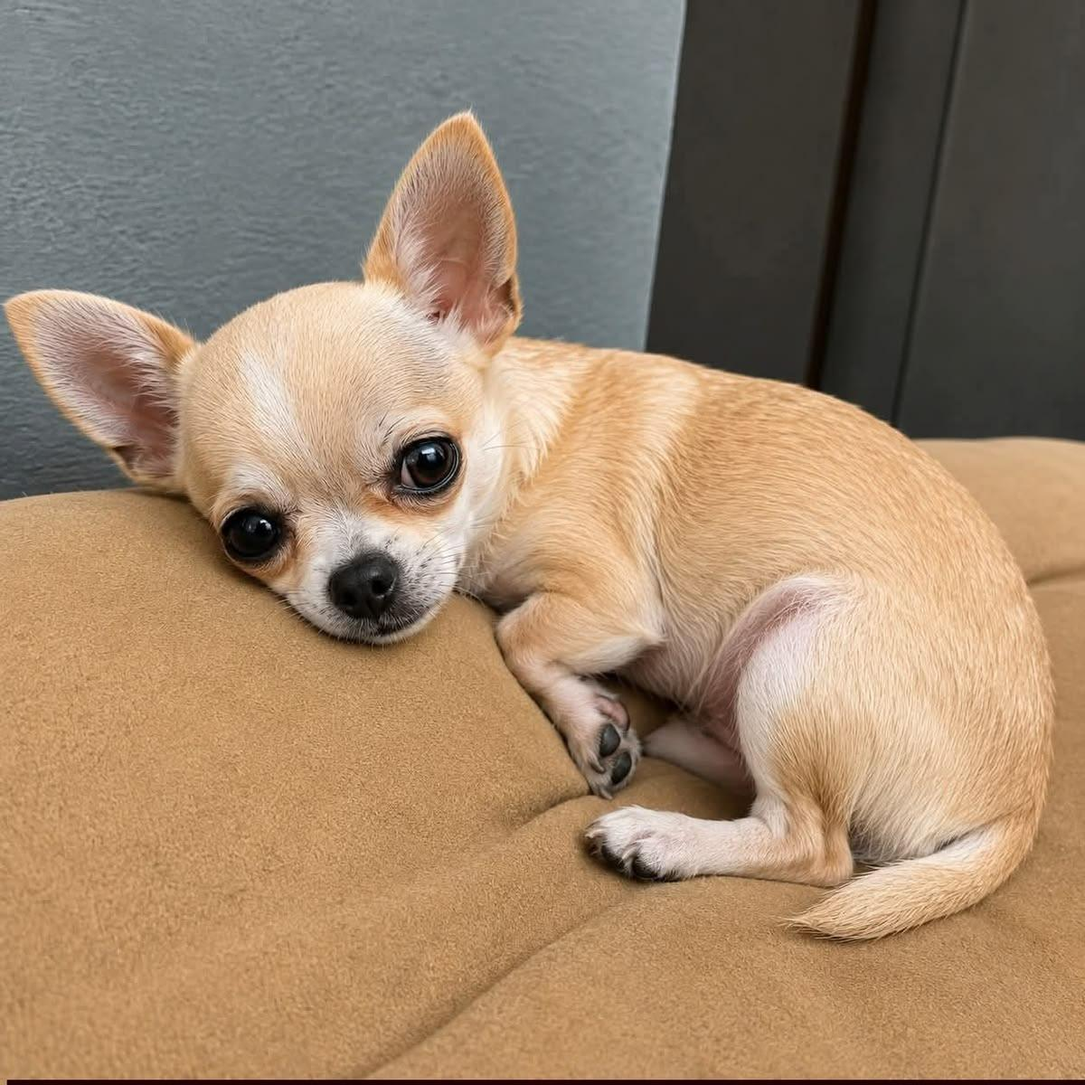dog: (6, 115, 1052, 938)
